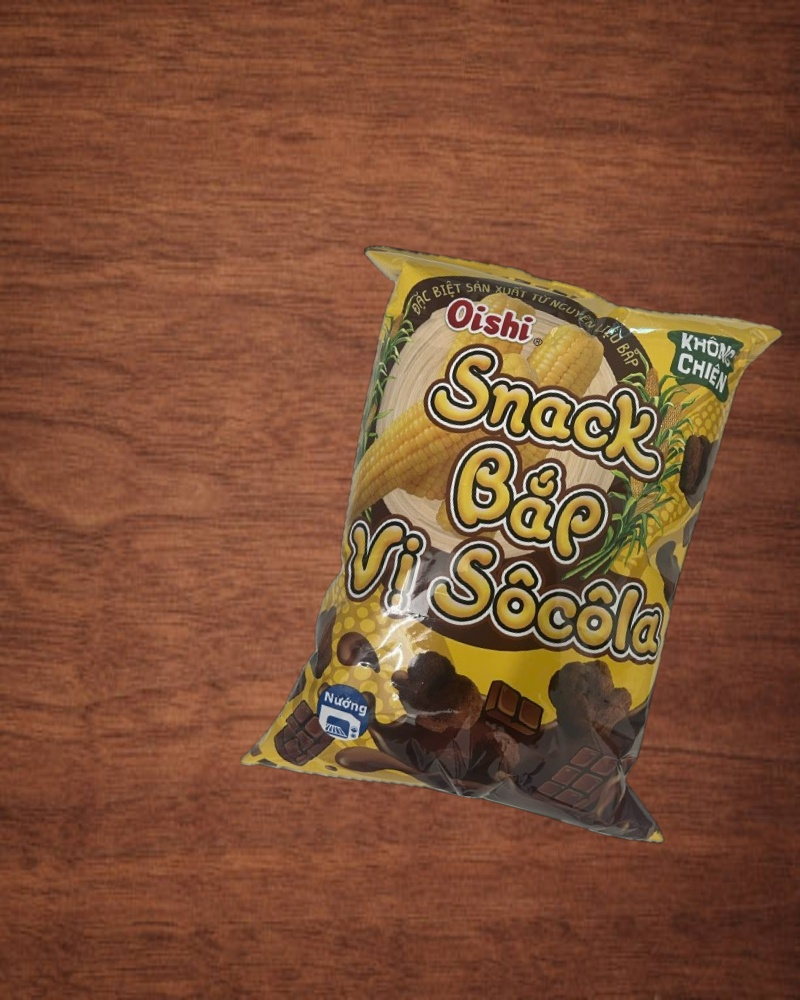Snack socola: (233, 224, 799, 864)
